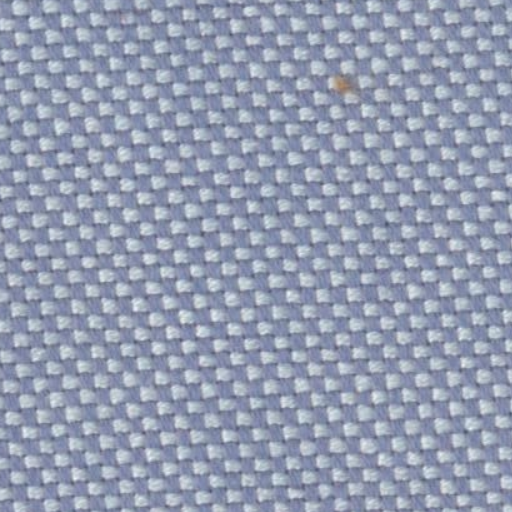WuZi: (293, 42, 392, 120)
